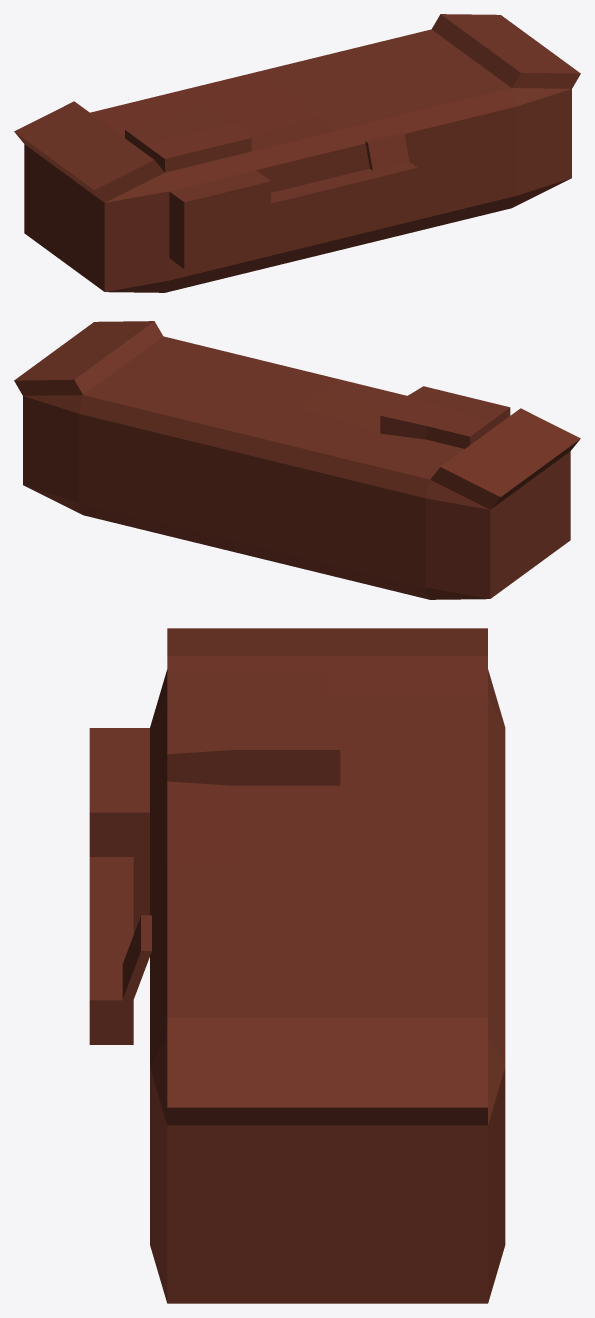
The model's file is Crate !.fbx.
The picture shows the model from 3 angles, top to bottom: view 1: azimuth 30°, elevation 25°; view 2: azimuth 150°, elevation 25°; view 3: azimuth 270°, elevation 25°; orthographic projection. The views are drawn at different scales.
Parts seen in each view (by area): view 1: Cube; view 2: Cube; view 3: Cube.
Part boxes in pixels (box(x1,y1,x2,y2)): Cube: box(14, 14, 580, 292); Cube: box(14, 321, 580, 599); Cube: box(89, 628, 505, 1303).
Bounding box in the file's own units: 497 × 133 × 184.
